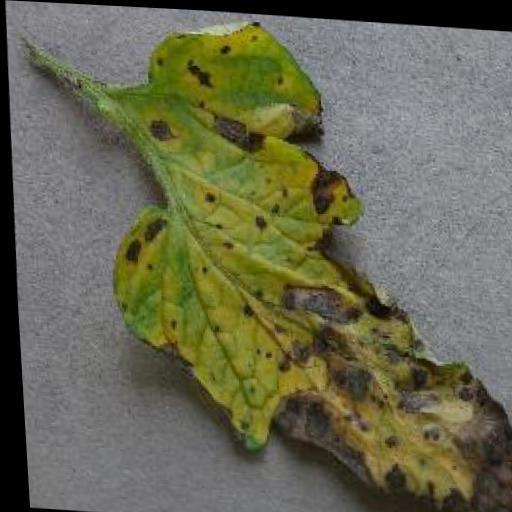Early Blight: (91, 12, 512, 512)
